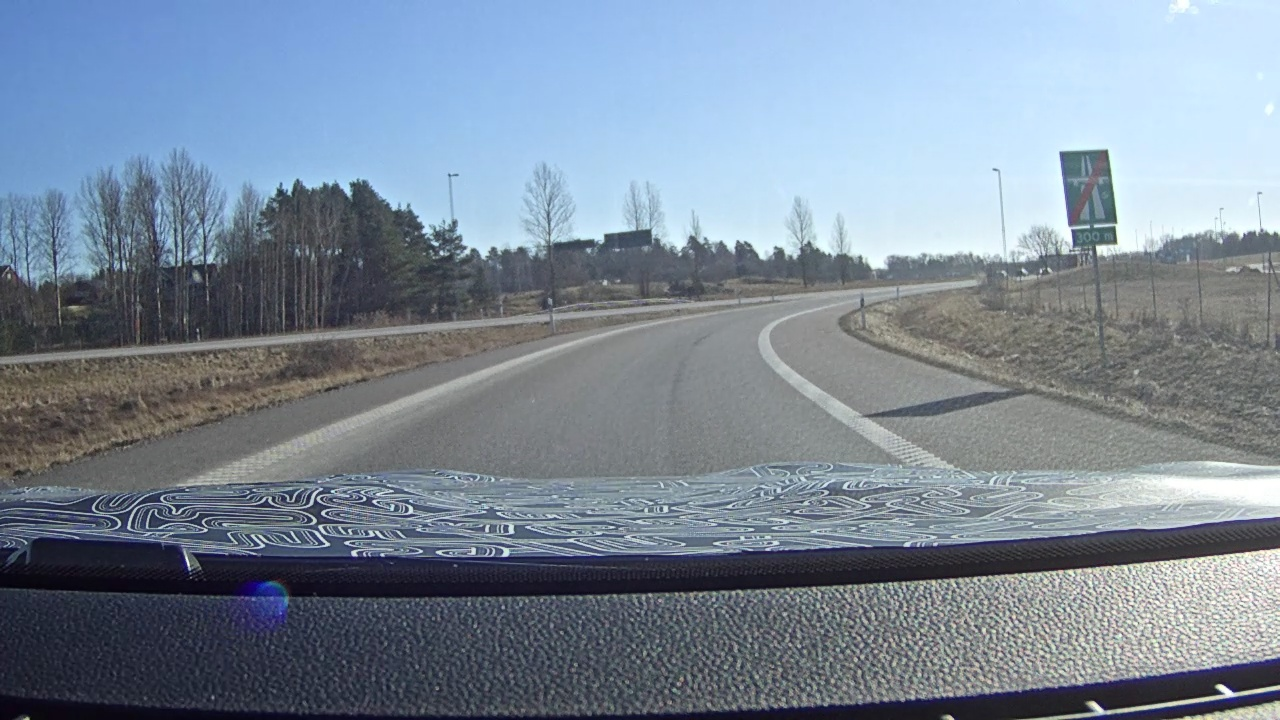Regular_End_Of_Motorway: (1060, 149, 1118, 226)
